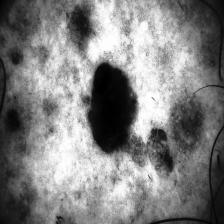Benign Marking or Mole: (90, 63, 137, 154)
